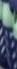cylinder: (1, 1, 17, 69)
